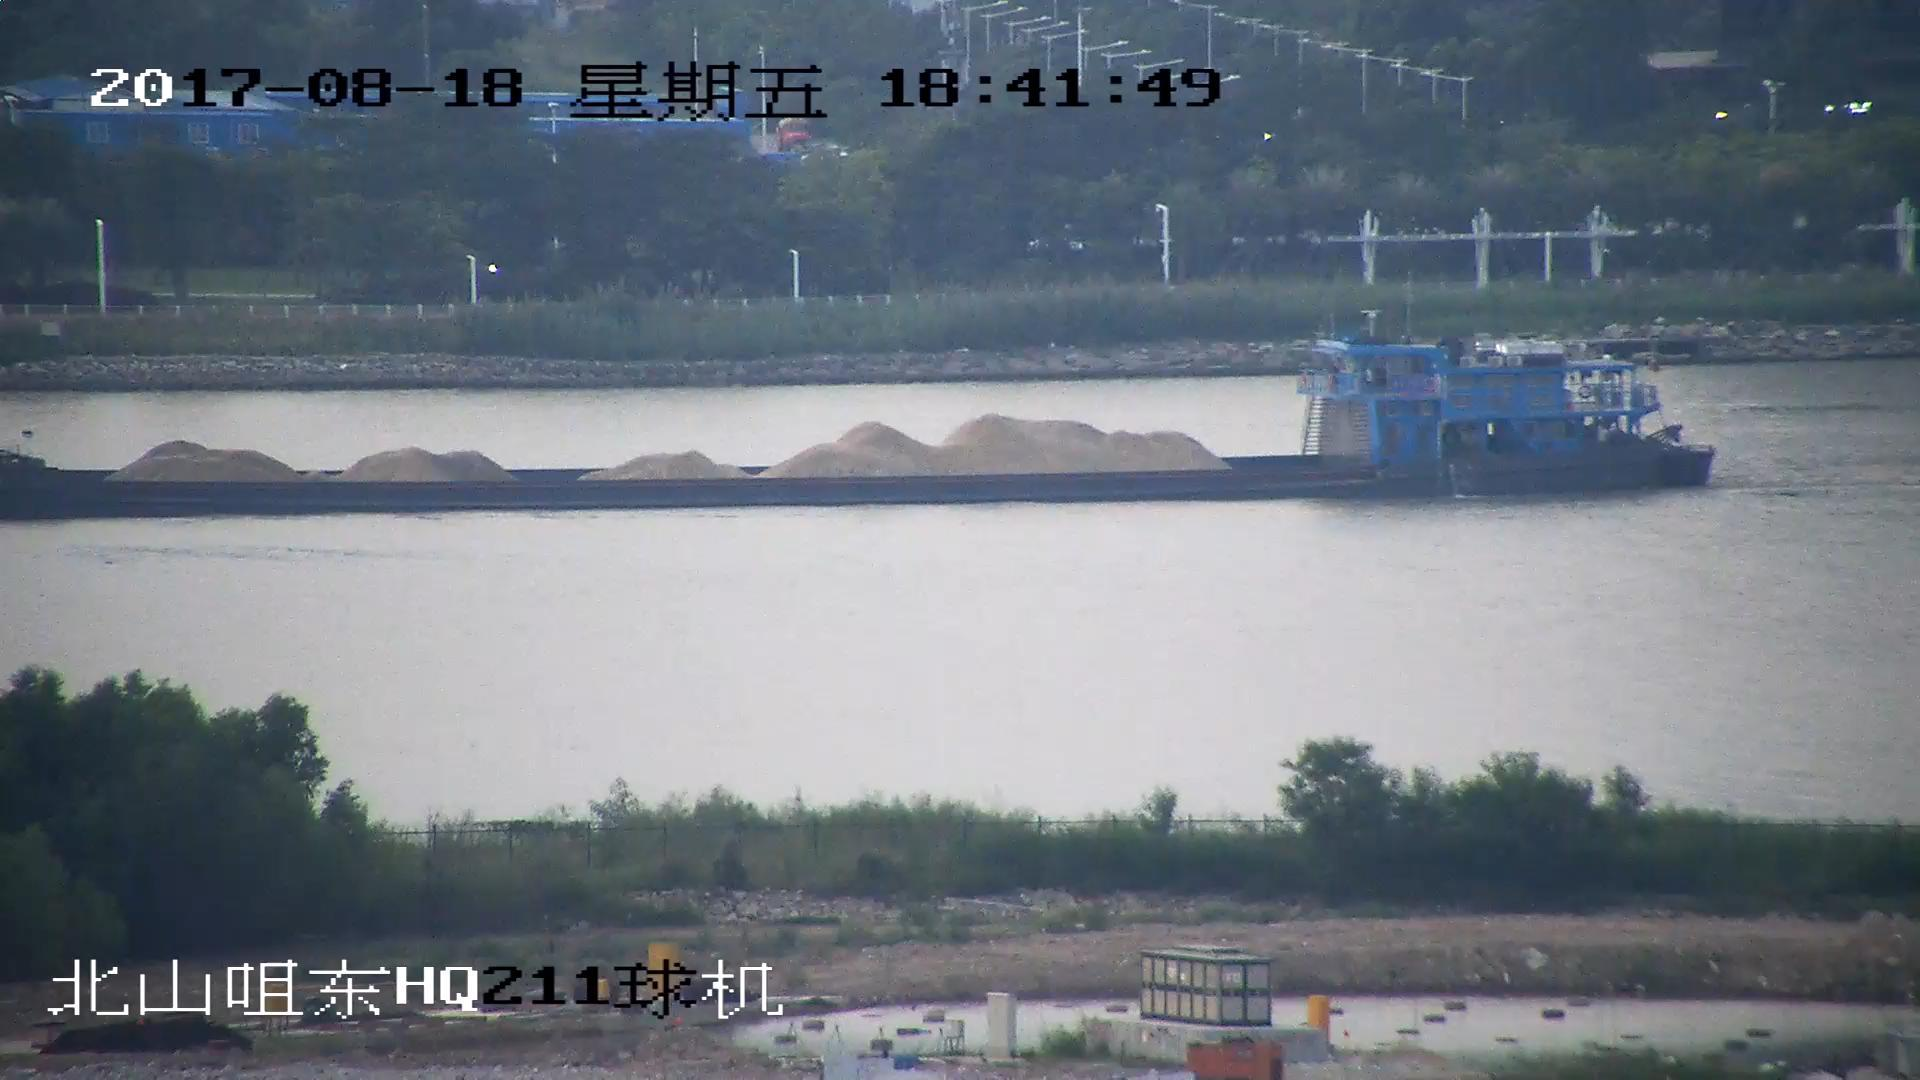Ship: (3, 338, 1724, 520)
